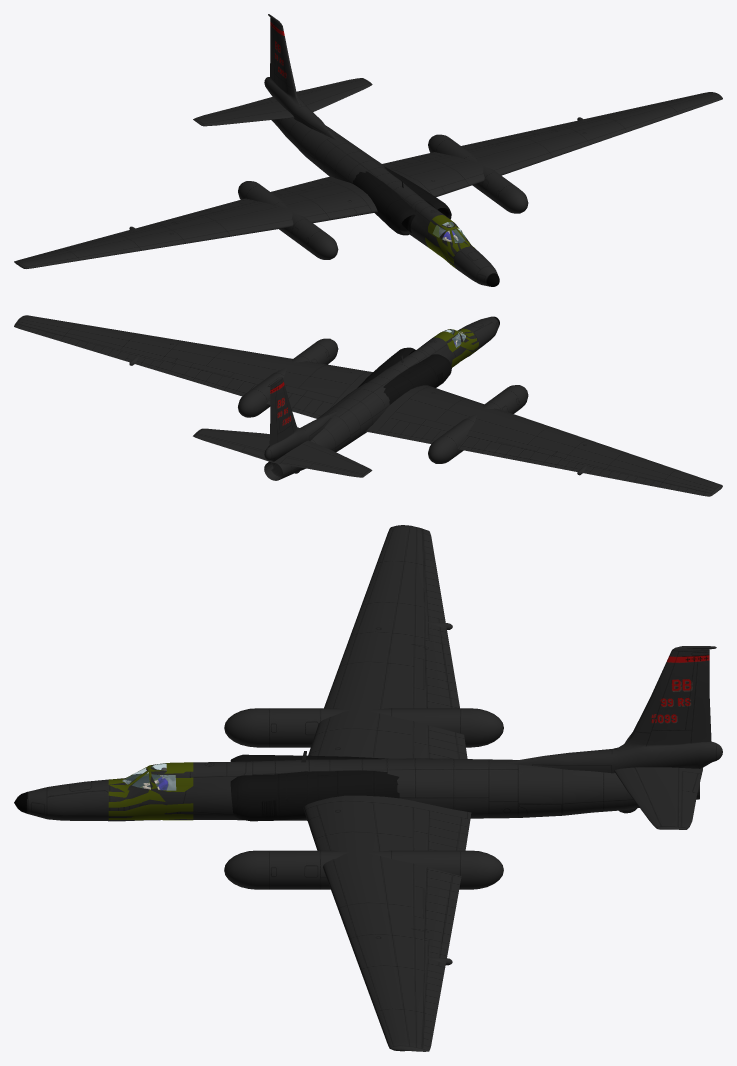
The picture shows the model from 3 angles, top to bottom: view 1: azimuth 30°, elevation 25°; view 2: azimuth 150°, elevation 25°; view 3: azimuth 270°, elevation 25°; orthographic projection. The views are drawn at different scales.
Parts seen in each view (by area): view 1: KR_LEV01-FACES, KR_LEV-FACES, FUZEL-FACES, KIL-FACES, BAK_LEV01-FACES, BAK_LEV-FACES, VZ_LEV01-FACES, GOR_LEV01-FACES, GOR_LEV-FACES, kabina01-FACES, VZ_LEV-FACES; view 2: KR_LEV01-FACES, KR_LEV-FACES, FUZEL-FACES, KIL-FACES, BAK_LEV01-FACES, GOR_LEV01-FACES, BAK_LEV-FACES, VZ_LEV01-FACES, GOR_LEV-FACES, kabina01-FACES, VZ_LEV-FACES; view 3: KR_LEV-FACES, KR_LEV01-FACES, FUZEL-FACES, KIL-FACES, BAK_LEV-FACES, BAK_LEV01-FACES, VZ_LEV-FACES, GOR_LEV-FACES, kabina01-FACES.
Part boxes in pixels (x1,y1,x2,y2): KR_LEV01-FACES: (14,176,377,268); KR_LEV-FACES: (382,92,722,196); FUZEL-FACES: (271,118,499,286); KIL-FACES: (264,14,337,140); BAK_LEV01-FACES: (238,181,338,259); BAK_LEV-FACES: (428,134,528,213); VZ_LEV01-FACES: (352,171,415,235); GOR_LEV01-FACES: (193,97,294,126); GOR_LEV-FACES: (296,78,372,111); kabina01-FACES: (425,215,474,268); VZ_LEV-FACES: (384,166,451,219); KR_LEV01-FACES: (365,385,722,496); KR_LEV-FACES: (14,315,372,418); FUZEL-FACES: (264,316,499,480); KIL-FACES: (264,377,337,461); BAK_LEV01-FACES: (428,385,528,463); GOR_LEV01-FACES: (273,440,372,477); BAK_LEV-FACES: (238,338,338,417); VZ_LEV01-FACES: (383,354,451,404); GOR_LEV-FACES: (193,428,272,462); kabina01-FACES: (433,328,478,367); VZ_LEV-FACES: (357,347,415,387); KR_LEV-FACES: (303,795,471,1051); KR_LEV01-FACES: (308,525,467,758); FUZEL-FACES: (14,758,699,821); KIL-FACES: (503,646,722,773); BAK_LEV-FACES: (224,850,503,889); BAK_LEV01-FACES: (224,708,503,747); VZ_LEV-FACES: (230,770,399,821); GOR_LEV-FACES: (614,767,702,829); kabina01-FACES: (108,762,193,820).
Size of the model in its own units: 31.11 by 4.78 by 17.79.
Materials: 54 (12 with a texture image).
